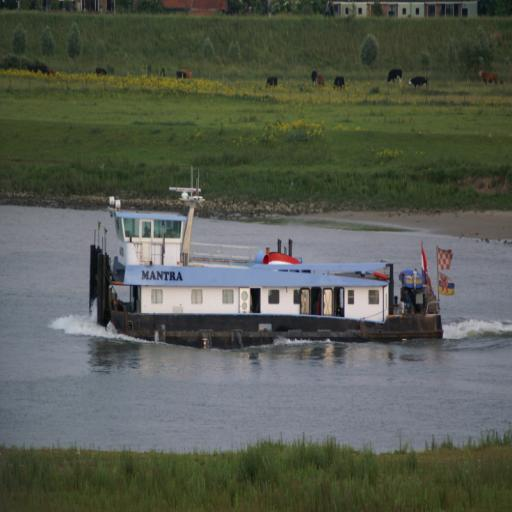tugboat: (88, 187, 450, 353)
